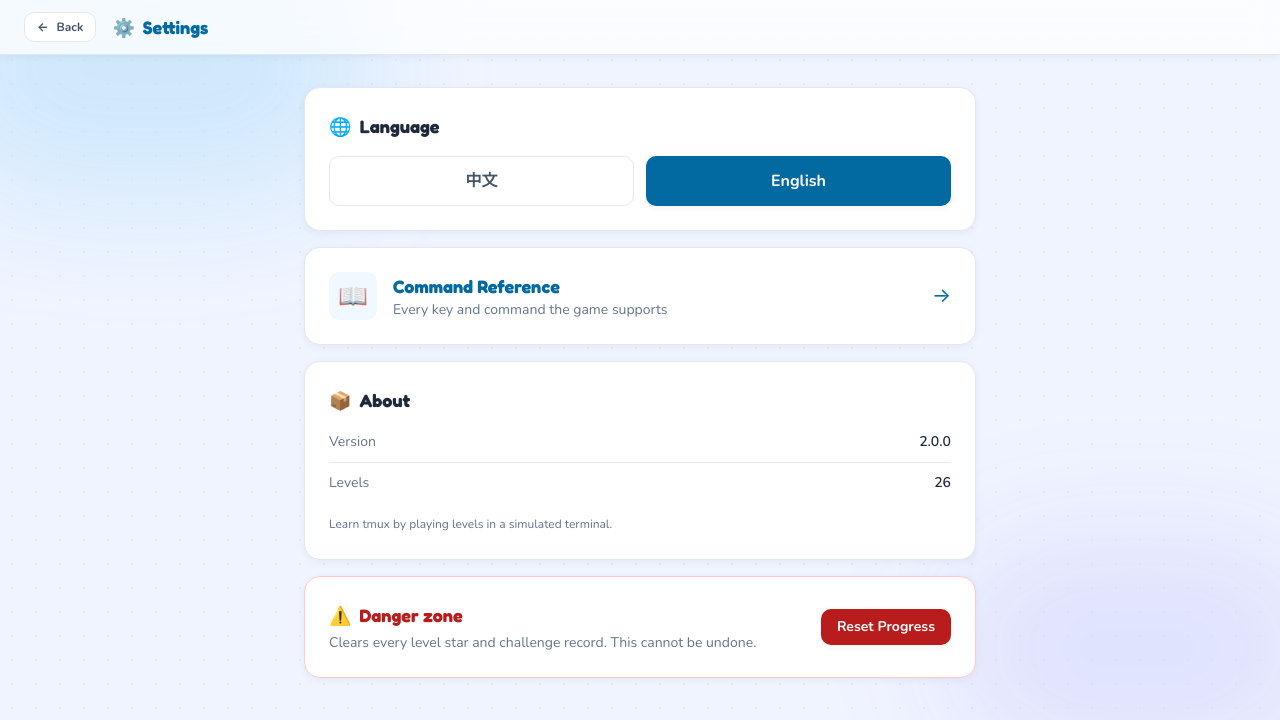
Scenario: SettingsScreen › asks before resetting, with cancel focused first
Click the button "Reset Progress".
click(886, 626)  # box 821,608 -> 951,644
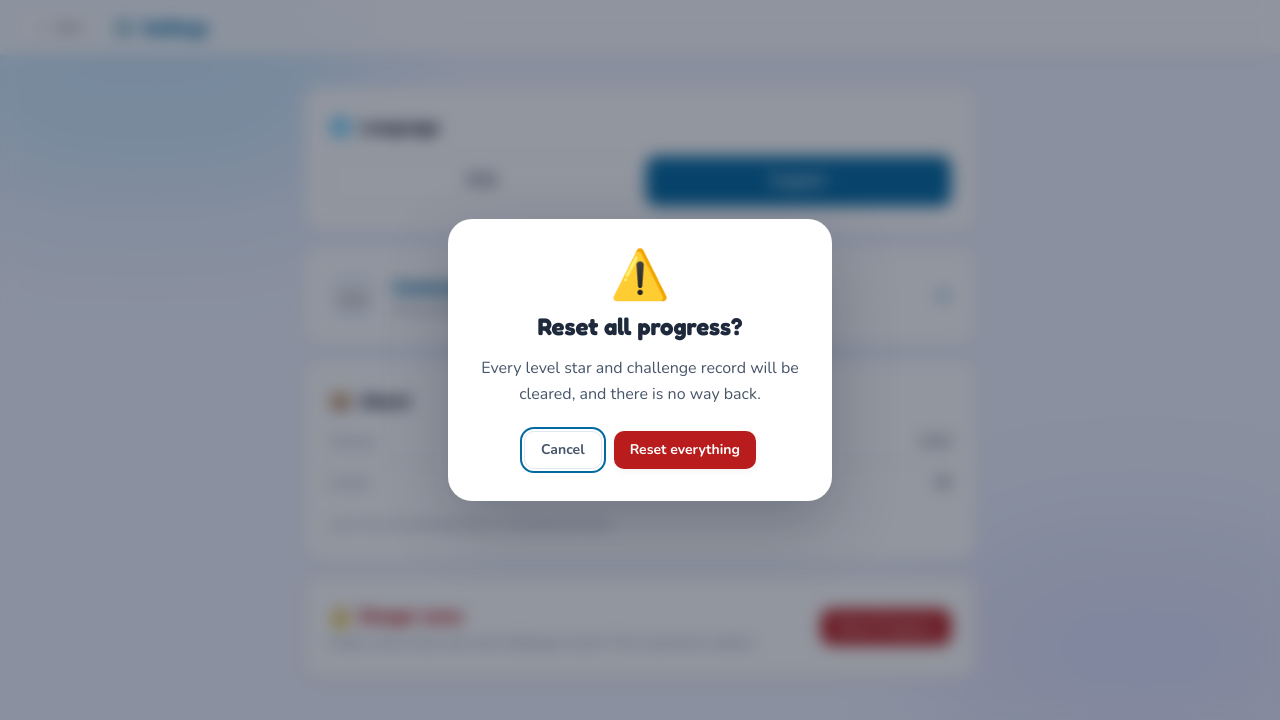
Expected: the dialog "Reset all progress?" is shown, 448,219 -> 832,501
